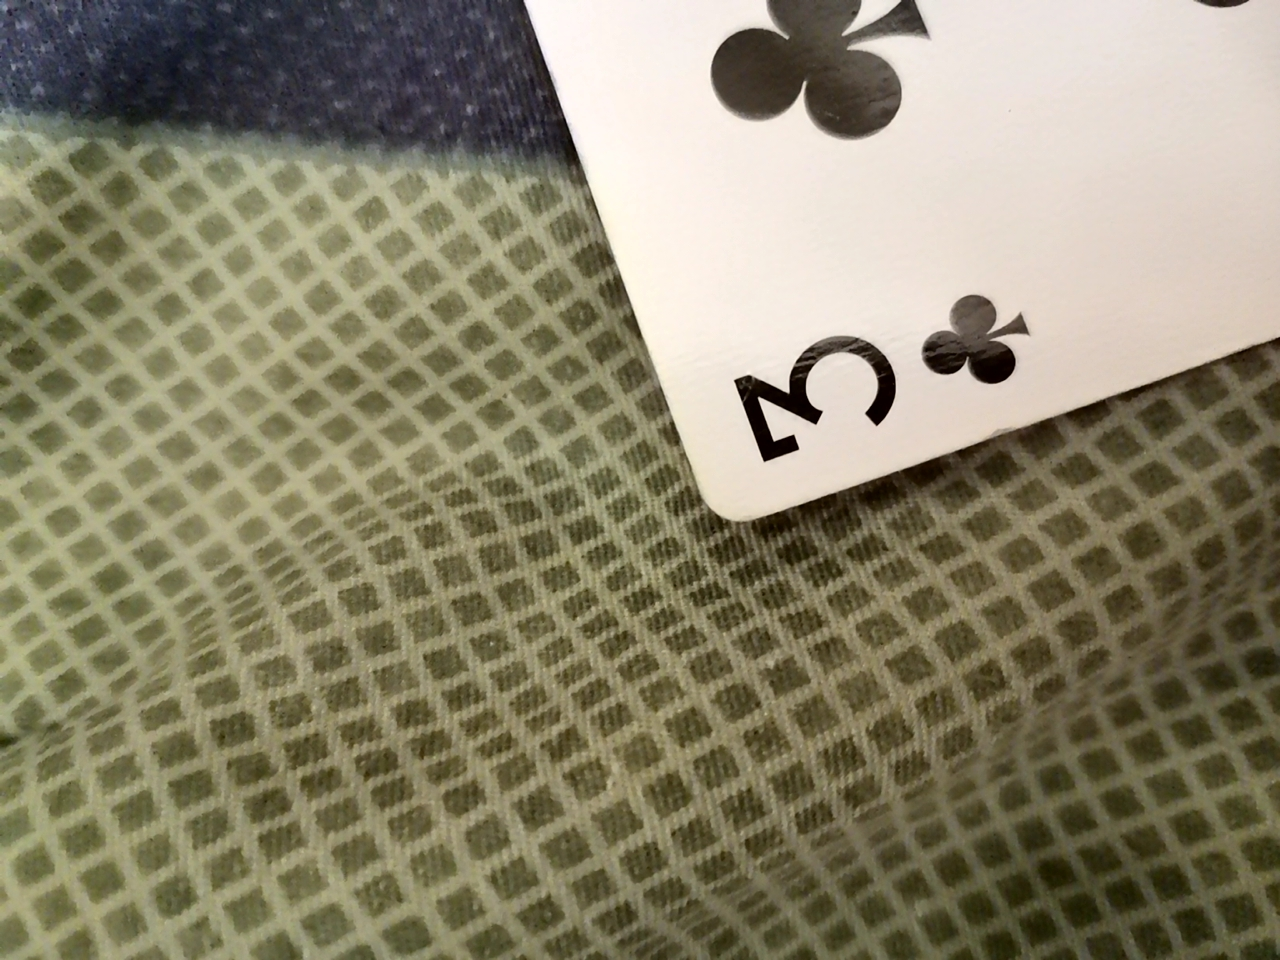mh 3: (435, 1, 1279, 522)
